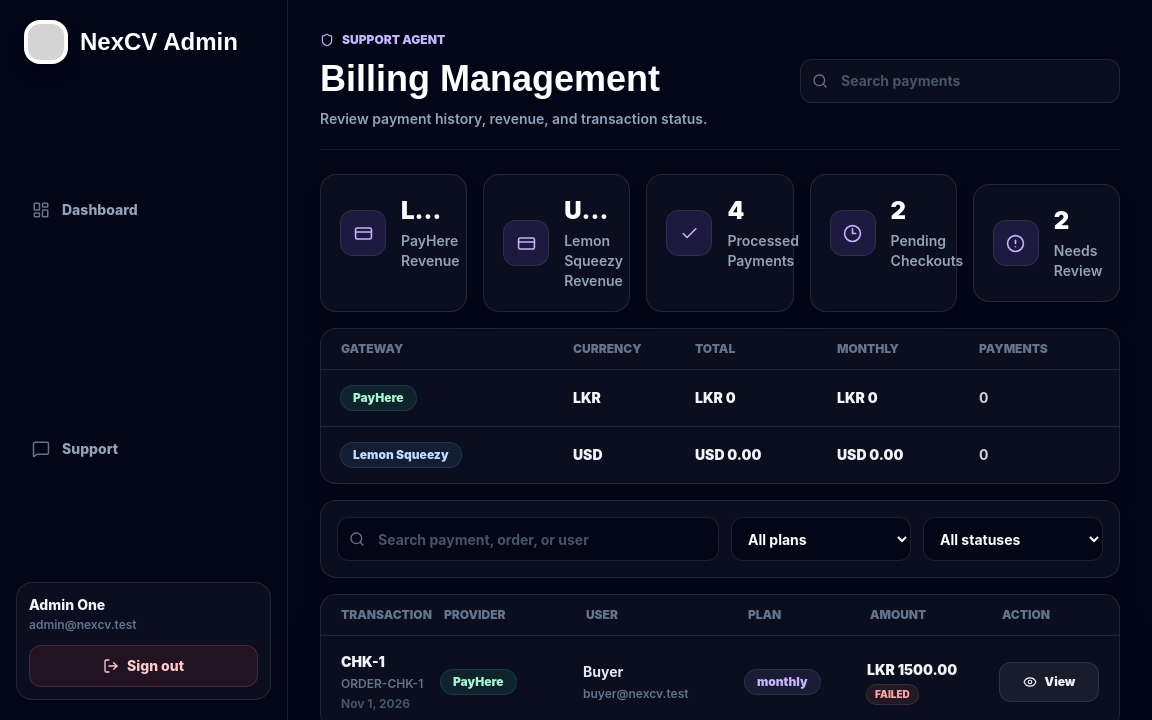
Test: AdminDashboard billing › blocks review actions for roles without billing write access
Check: the text "CHK-1" is shown, box [341, 653, 385, 670]
Click the button "View": [1049, 682] box [999, 662, 1099, 702]
(page scrolled)
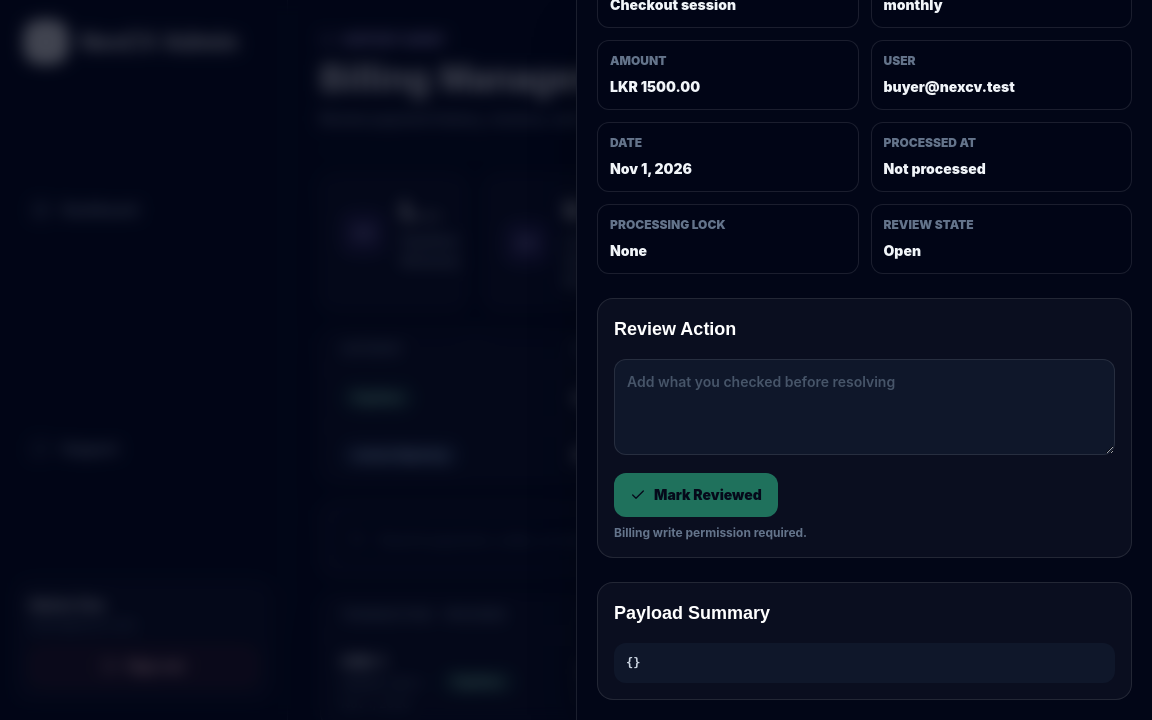
Check: the button "Mark Reviewed" is disabled, box [614, 473, 778, 517]
Check: the text "Billing write permission required." is shown, box [614, 525, 807, 540]
